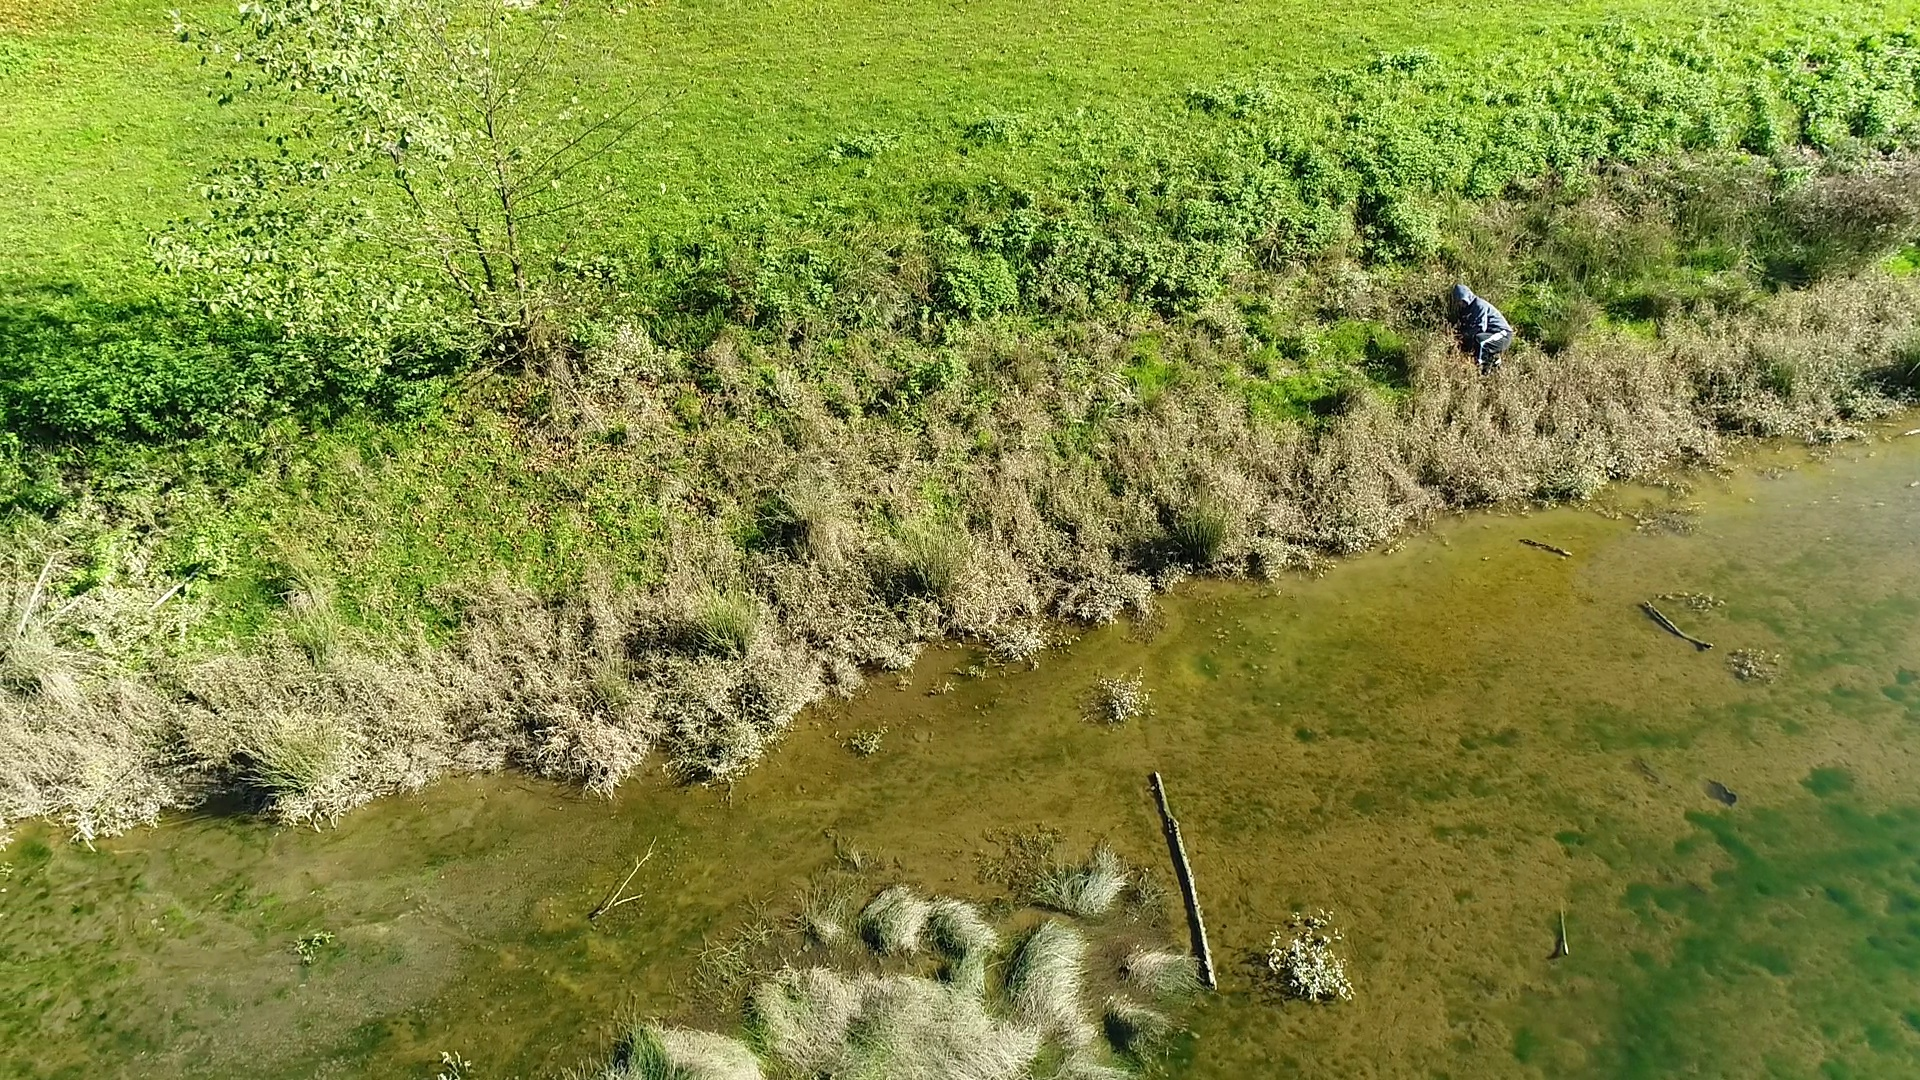not_defined: (1453, 280, 1515, 372)
